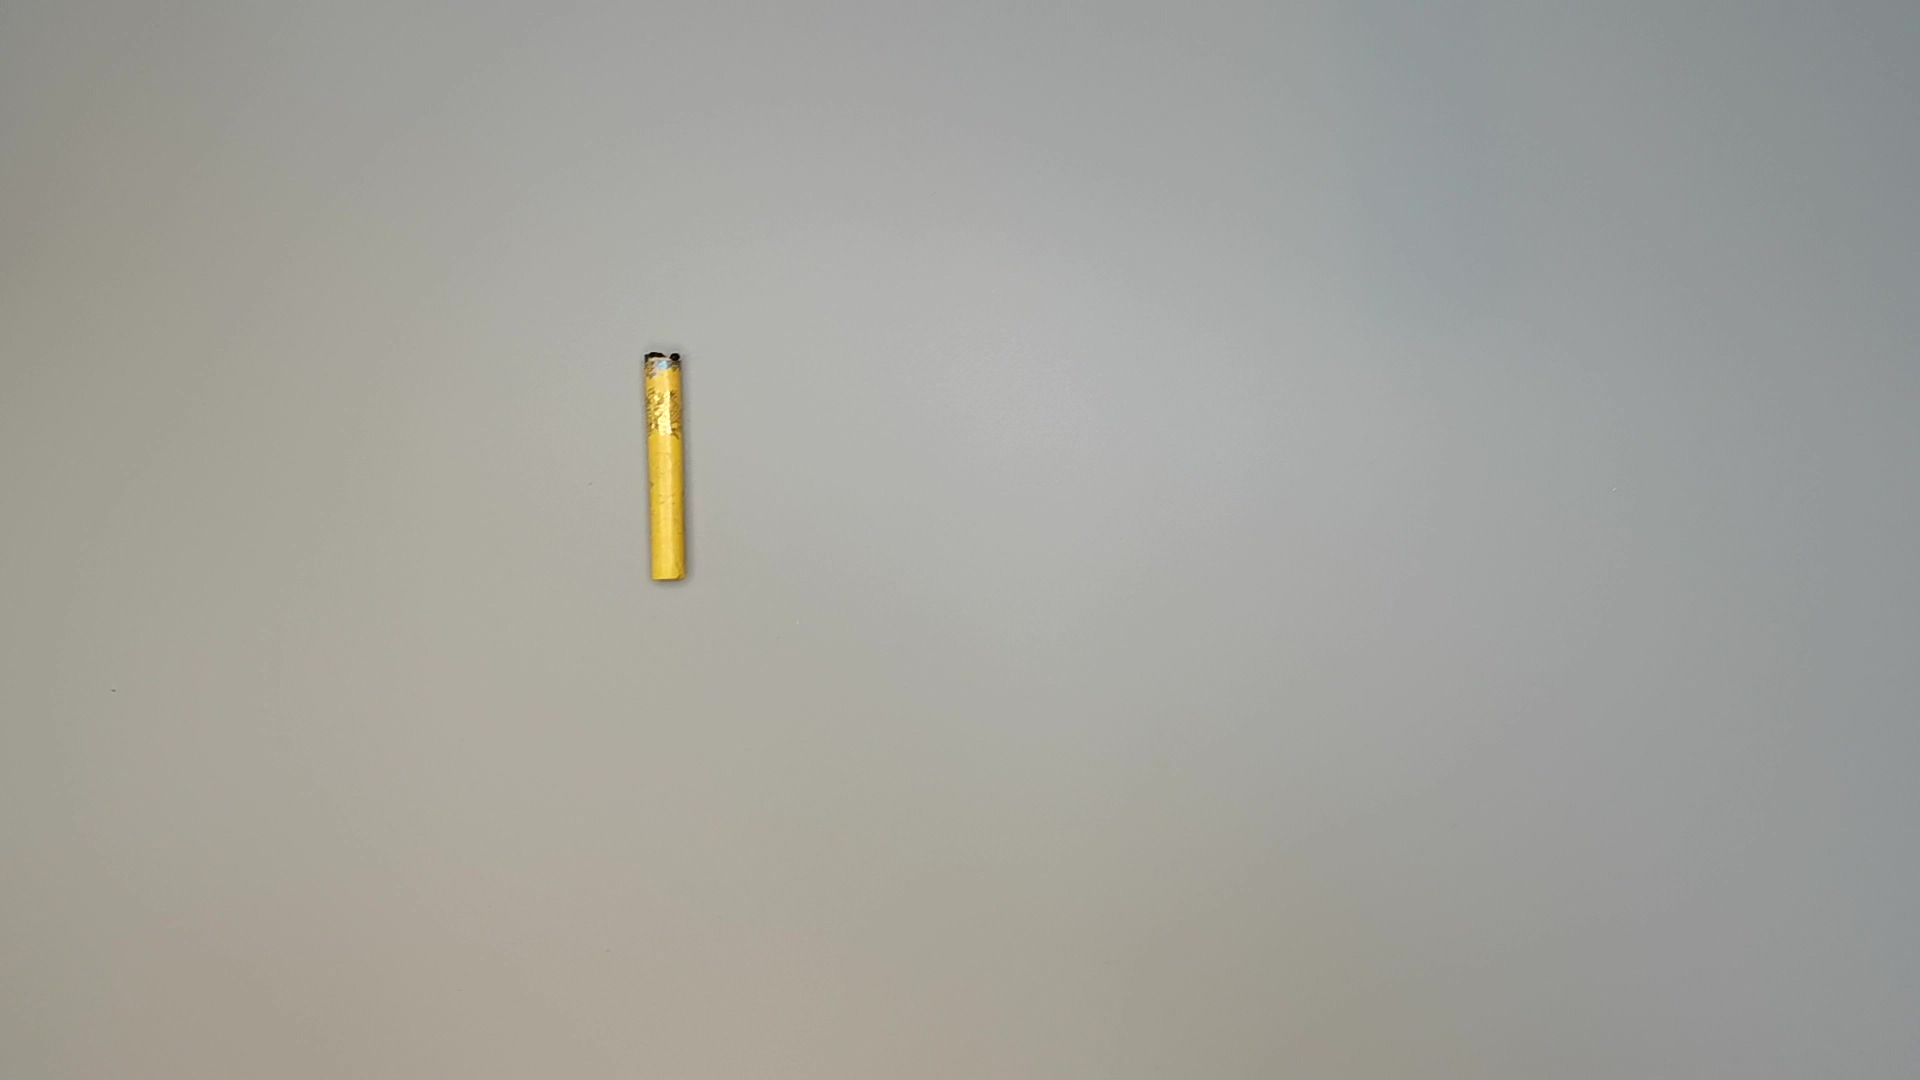cigarette: (637, 343, 688, 591)
